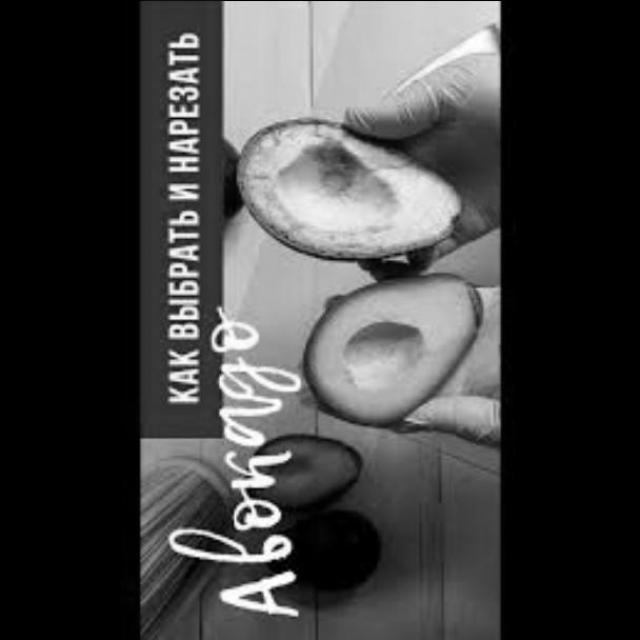bo: (231, 105, 453, 262), (302, 263, 494, 434), (258, 488, 401, 590), (241, 428, 370, 515)
